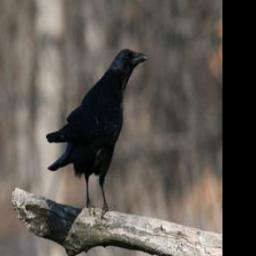Crow: (46, 45, 148, 221)
